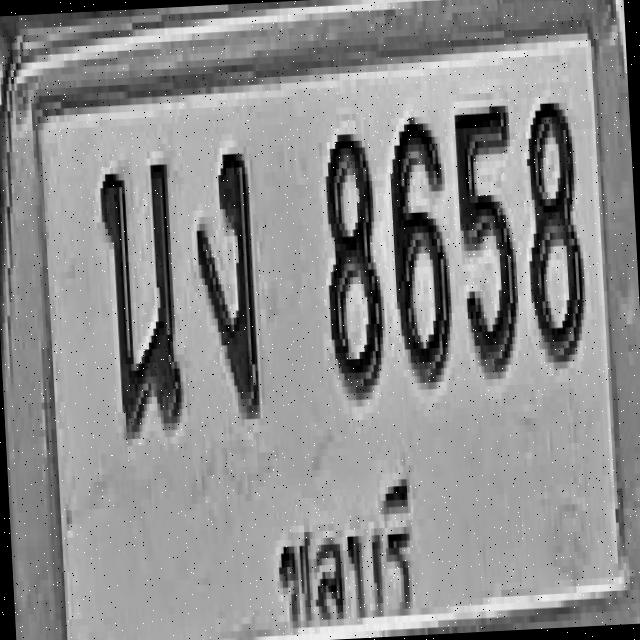16NgorNgu: (190, 143, 260, 418)
34NorNu: (96, 154, 183, 436)
5: (453, 99, 521, 374)
6: (386, 109, 454, 384)
8: (318, 122, 386, 398), (521, 92, 586, 360)
Chonburi: (265, 465, 423, 640)
